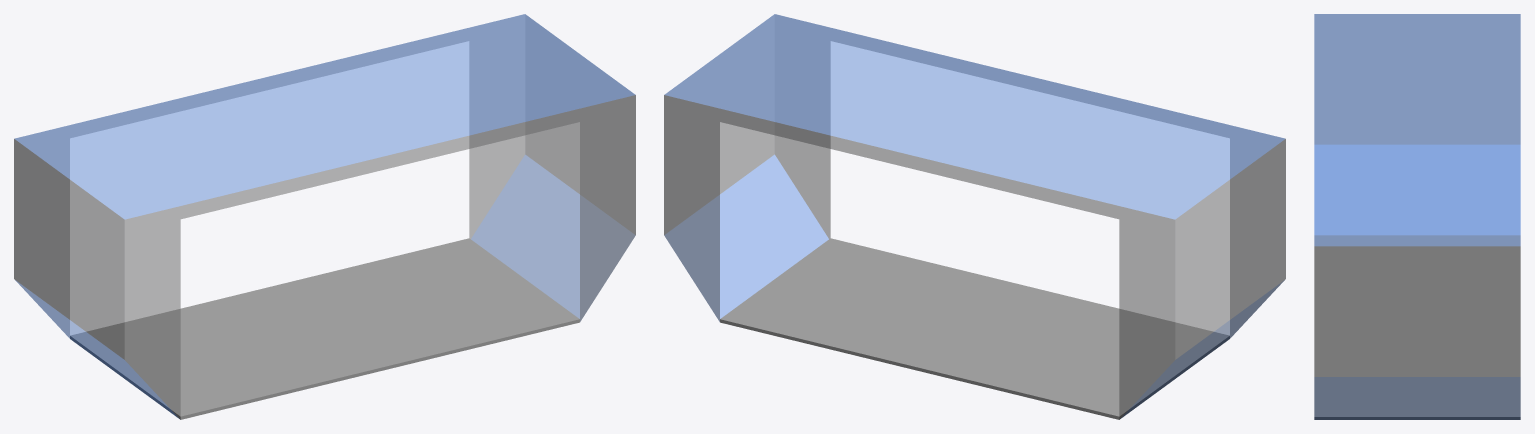
The model's file is alf.gltf.
The picture shows the model from 3 angles, left to right: view 1: azimuth 30°, elevation 25°; view 2: azimuth 150°, elevation 25°; view 3: azimuth 270°, elevation 25°; orthographic projection. The views are drawn at different scales.
Parts seen in each view (by area): view 1: root; view 2: root; view 3: root.
Boxes of the visible parts, left/top/right/bottom form: root: left=14, top=14, right=635, bottom=419; root: left=664, top=14, right=1285, bottom=419; root: left=1314, top=14, right=1520, bottom=419.
Size of the model in its own units: 4.06 by 1.63 by 1.52.
